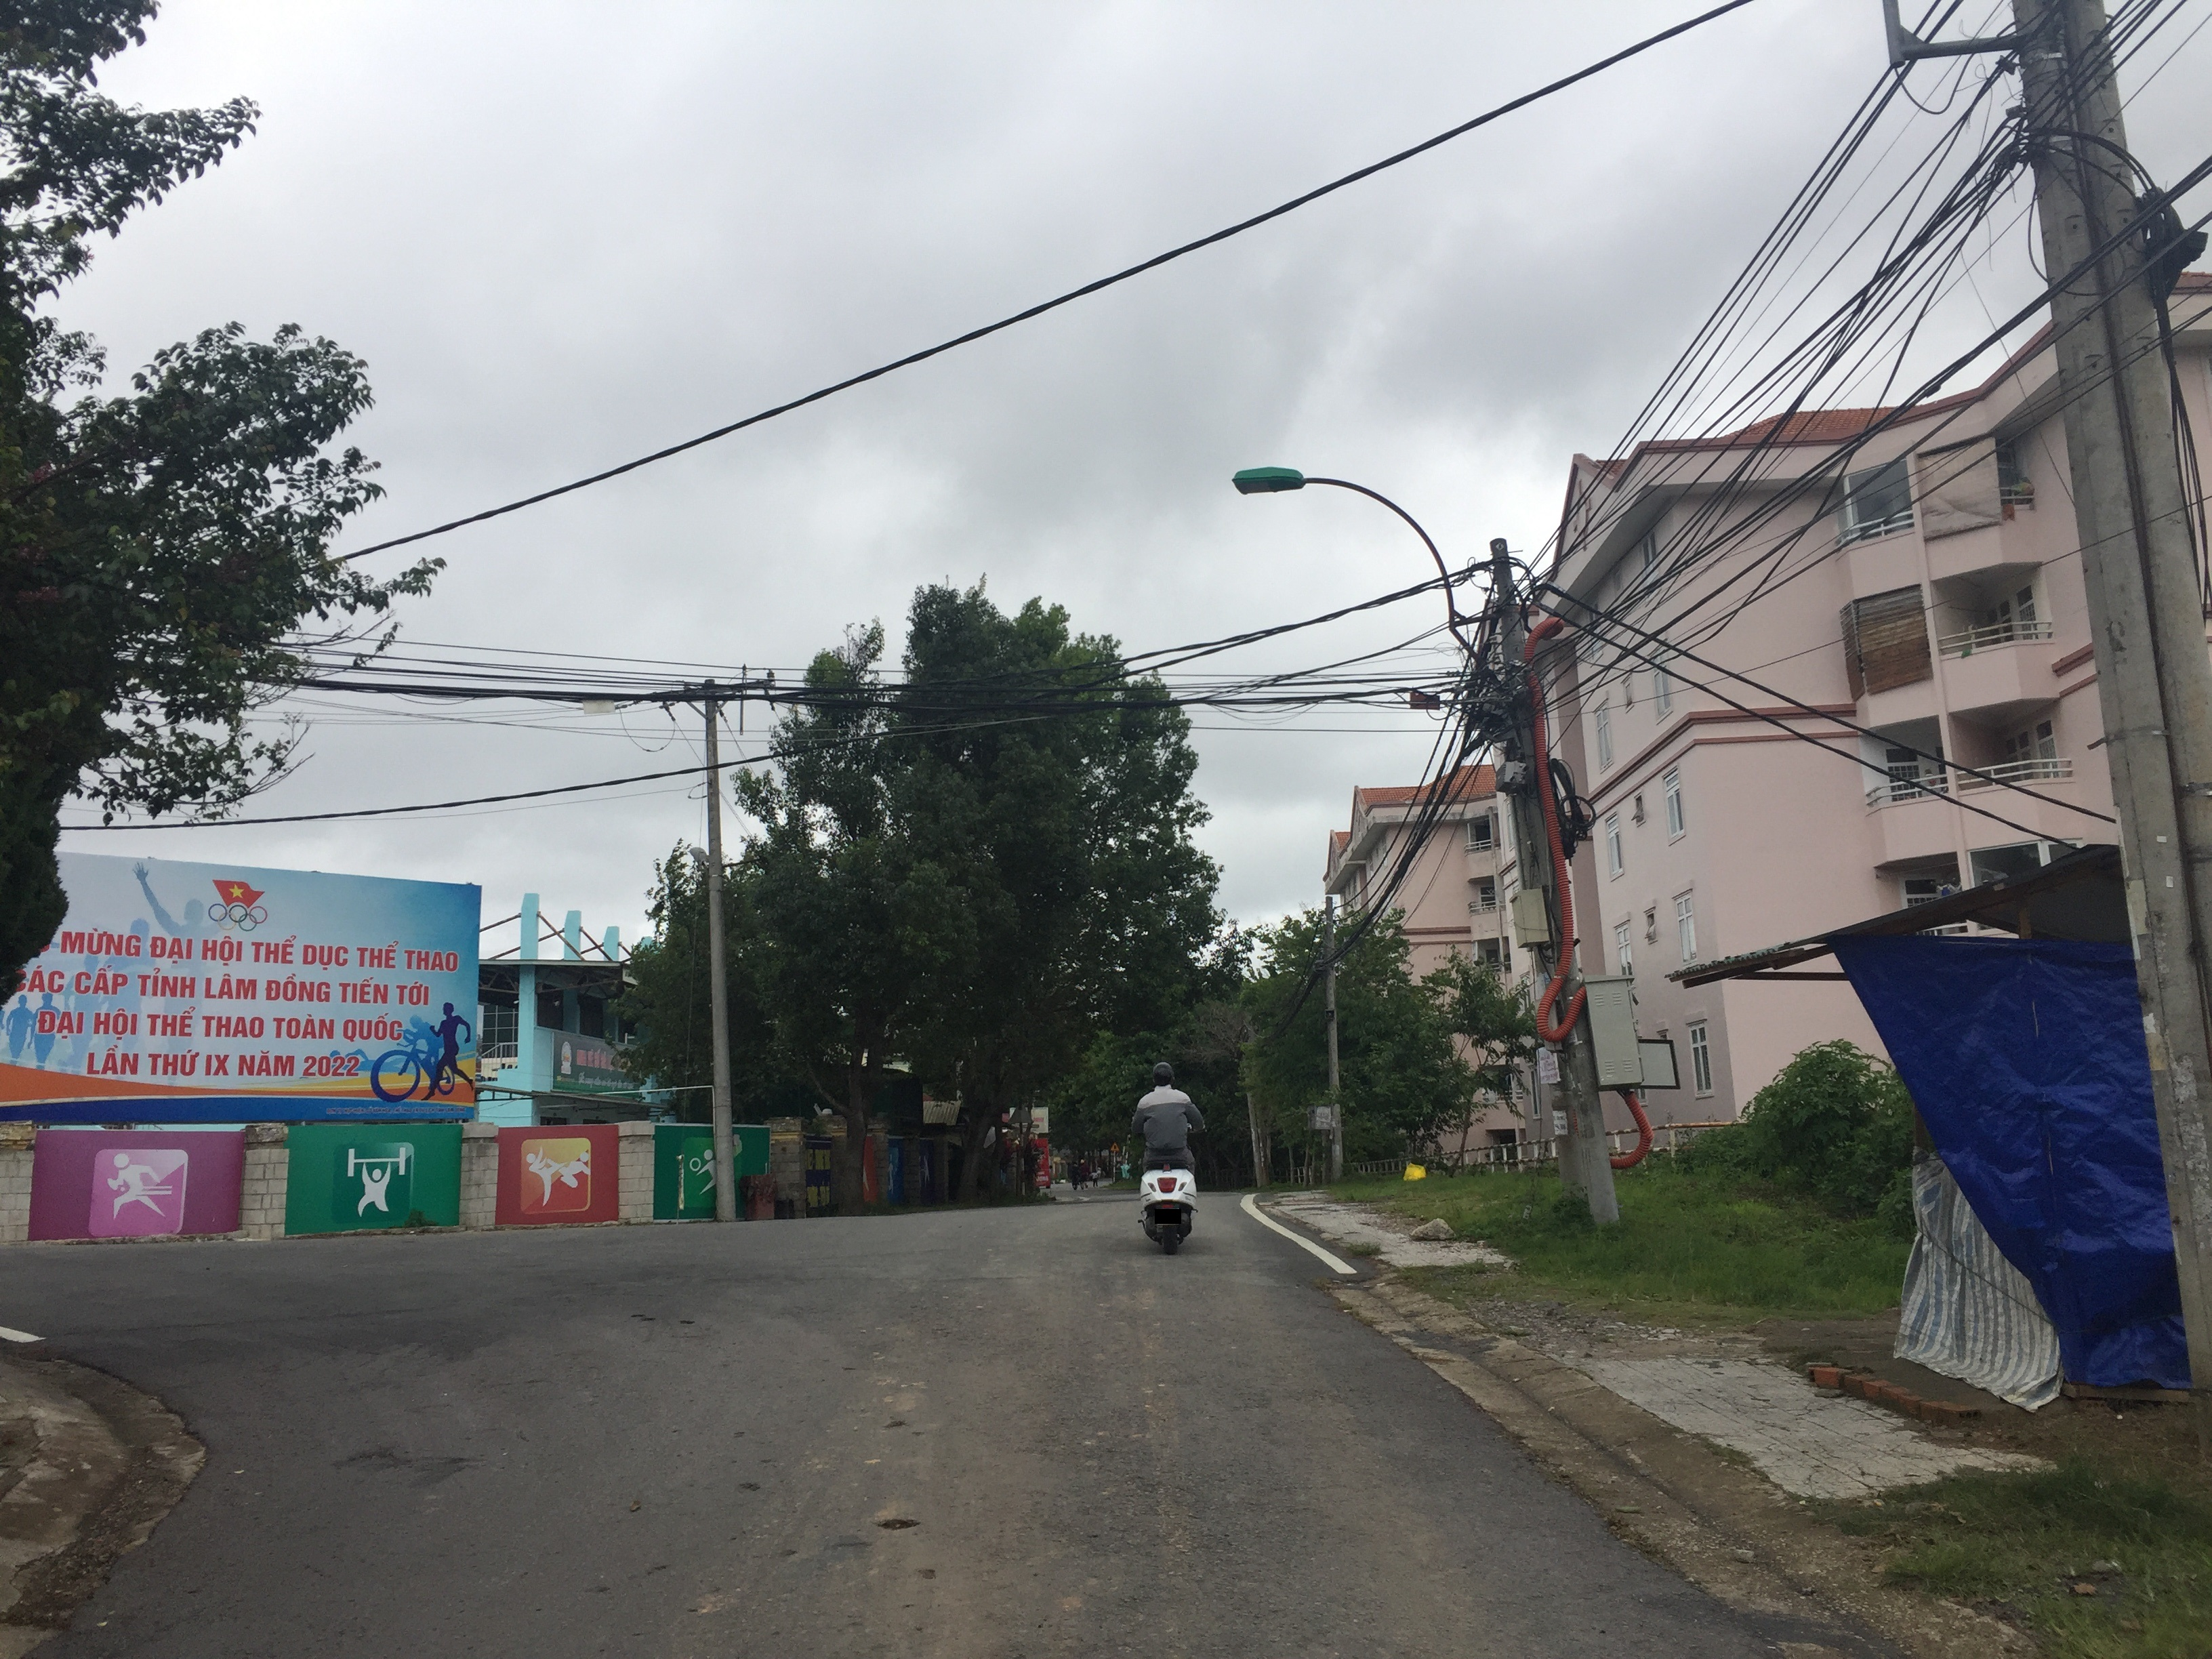hole: (871, 1514, 920, 1532), (881, 1420, 909, 1431), (679, 1317, 697, 1326), (641, 1316, 657, 1321), (629, 1314, 646, 1317)
